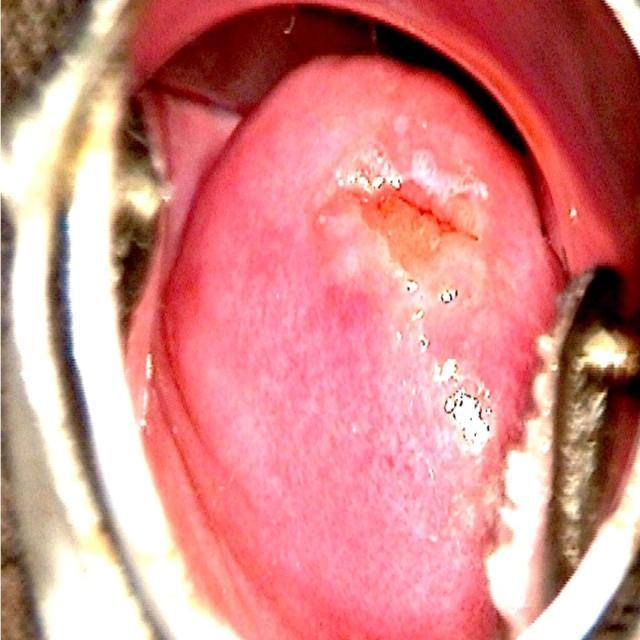cervical_lesion: (280, 108, 509, 526)
